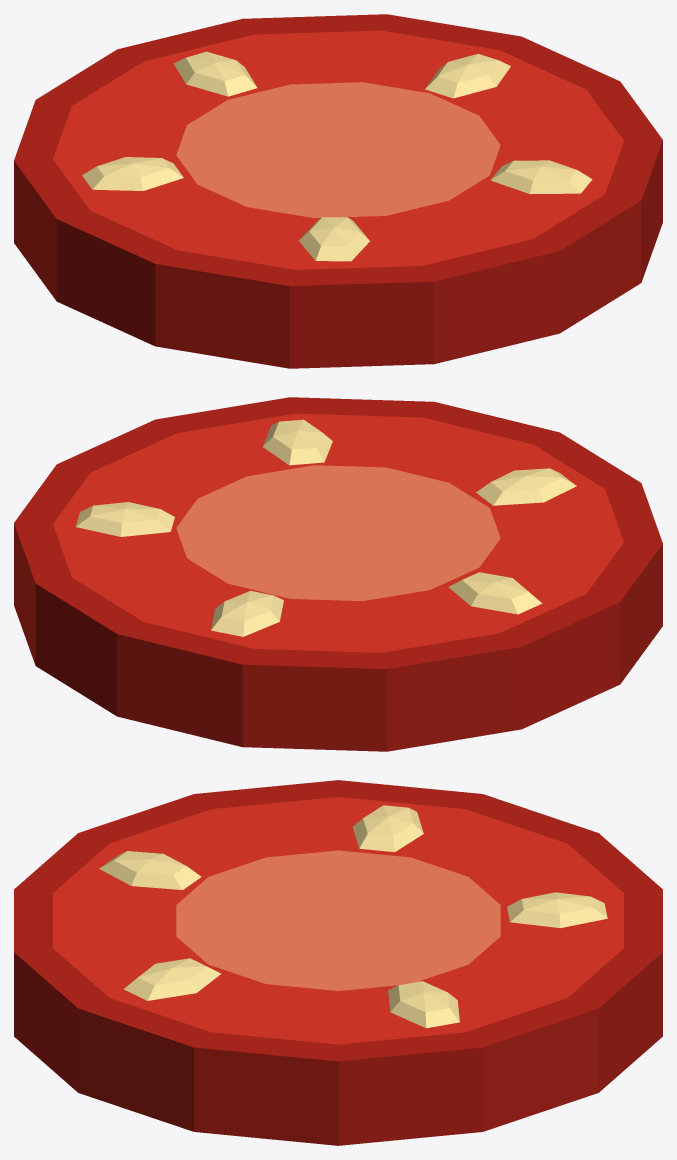
The model's file is tomato_slice.glb.
3 views of the same model, one above another, from view 1: azimuth 30°, elevation 25°; view 2: azimuth 150°, elevation 25°; view 3: azimuth 270°, elevation 25° (orthographic). The views are drawn at different scales.
Visible parts, largest first — view 1: TomatoSlice; view 2: TomatoSlice; view 3: TomatoSlice.
Boxes of the visible parts, x1,y1,x2,y2 form: TomatoSlice: [14, 14, 662, 368]; TomatoSlice: [14, 397, 662, 751]; TomatoSlice: [14, 780, 662, 1145].
Size of the model in its own units: 2 by 0.325 by 1.95.
